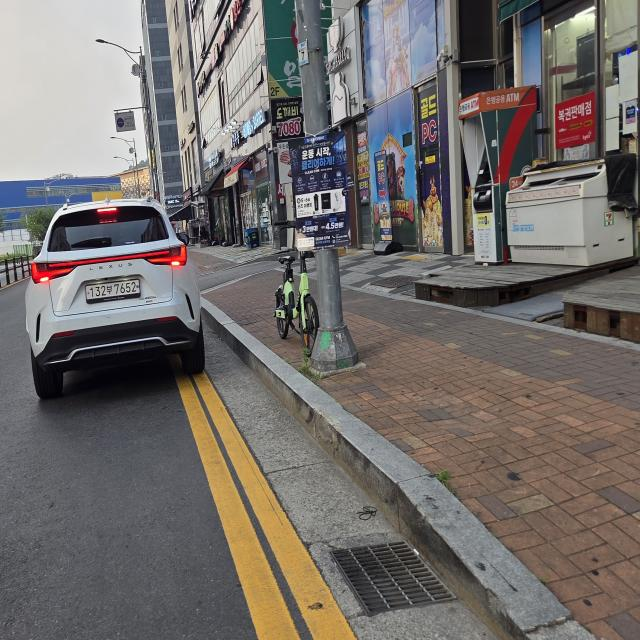bicycle: (262, 233, 324, 368)
car: (15, 190, 217, 408)
